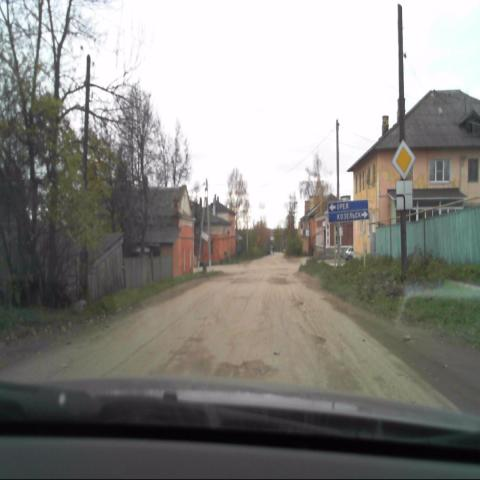8_13: (394, 179, 413, 209)
